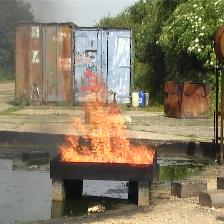fire: (57, 98, 155, 165)
